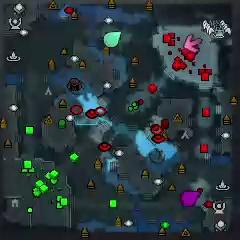p2: (104, 30, 122, 48)
p3: (181, 190, 200, 208)
x1: (184, 35, 203, 53)
